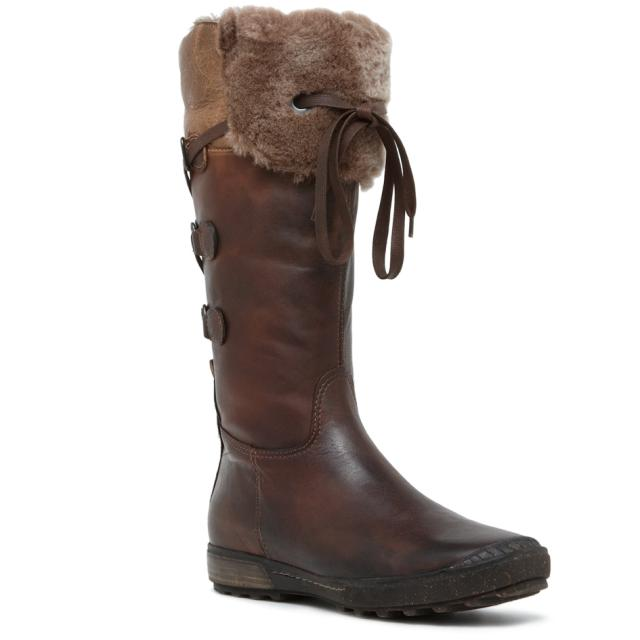boot: (124, 12, 566, 604)
